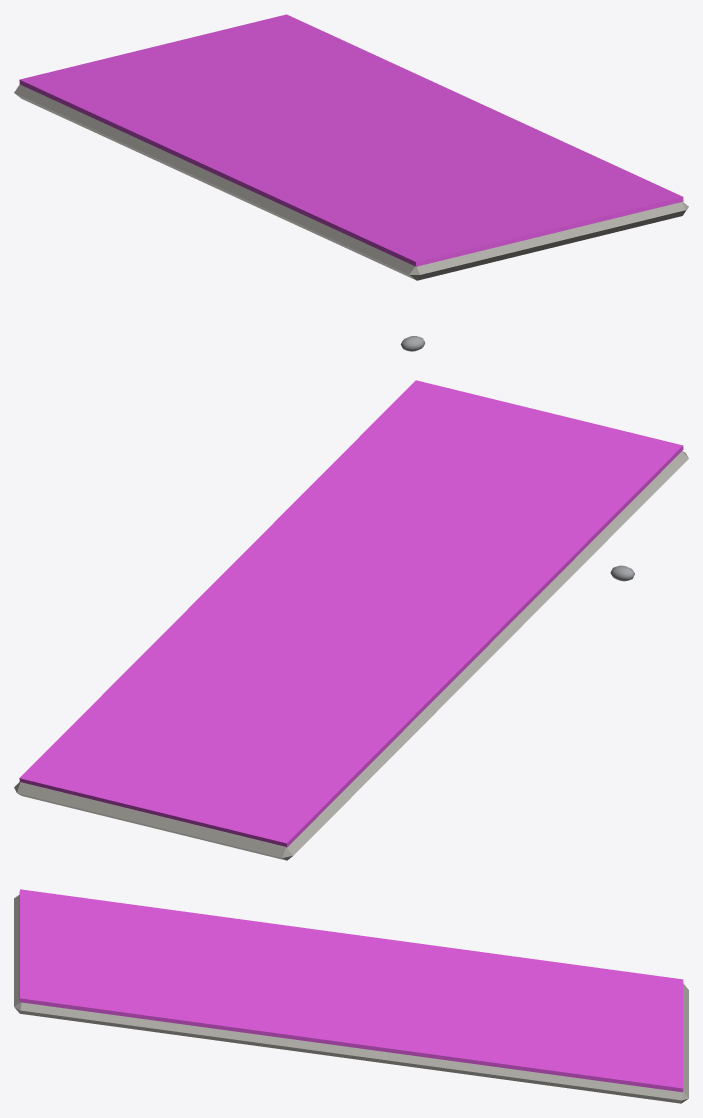
3 views of the same model, one above another, from view 1: azimuth 30°, elevation 25°; view 2: azimuth 150°, elevation 25°; view 3: azimuth 270°, elevation 25° (orthographic). The views are drawn at different scales.
Visible parts, largest first — view 1: NAV_MASK_FOREST_PATH_GRAVEL_SLOPE_UP_SLOPE, LOD2_FOREST_PATH_GRAVEL_SLOPE_UP_Slope; view 2: NAV_MASK_FOREST_PATH_GRAVEL_SLOPE_UP_SLOPE, LOD2_FOREST_PATH_GRAVEL_SLOPE_UP_Slope; view 3: NAV_MASK_FOREST_PATH_GRAVEL_SLOPE_UP_SLOPE, LOD2_FOREST_PATH_GRAVEL_SLOPE_UP_Slope.
Boxes of the visible parts, box(x1,y1,x2,y2) form: NAV_MASK_FOREST_PATH_GRAVEL_SLOPE_UP_SLOPE: box(19, 14, 683, 266); LOD2_FOREST_PATH_GRAVEL_SLOPE_UP_Slope: box(14, 84, 688, 280); NAV_MASK_FOREST_PATH_GRAVEL_SLOPE_UP_SLOPE: box(19, 380, 683, 847); LOD2_FOREST_PATH_GRAVEL_SLOPE_UP_Slope: box(14, 451, 688, 860); NAV_MASK_FOREST_PATH_GRAVEL_SLOPE_UP_SLOPE: box(19, 889, 683, 1092); LOD2_FOREST_PATH_GRAVEL_SLOPE_UP_Slope: box(14, 895, 688, 1103).
Size of what is drawn, in the model's own units: 3.2 by 1.38 by 8.
